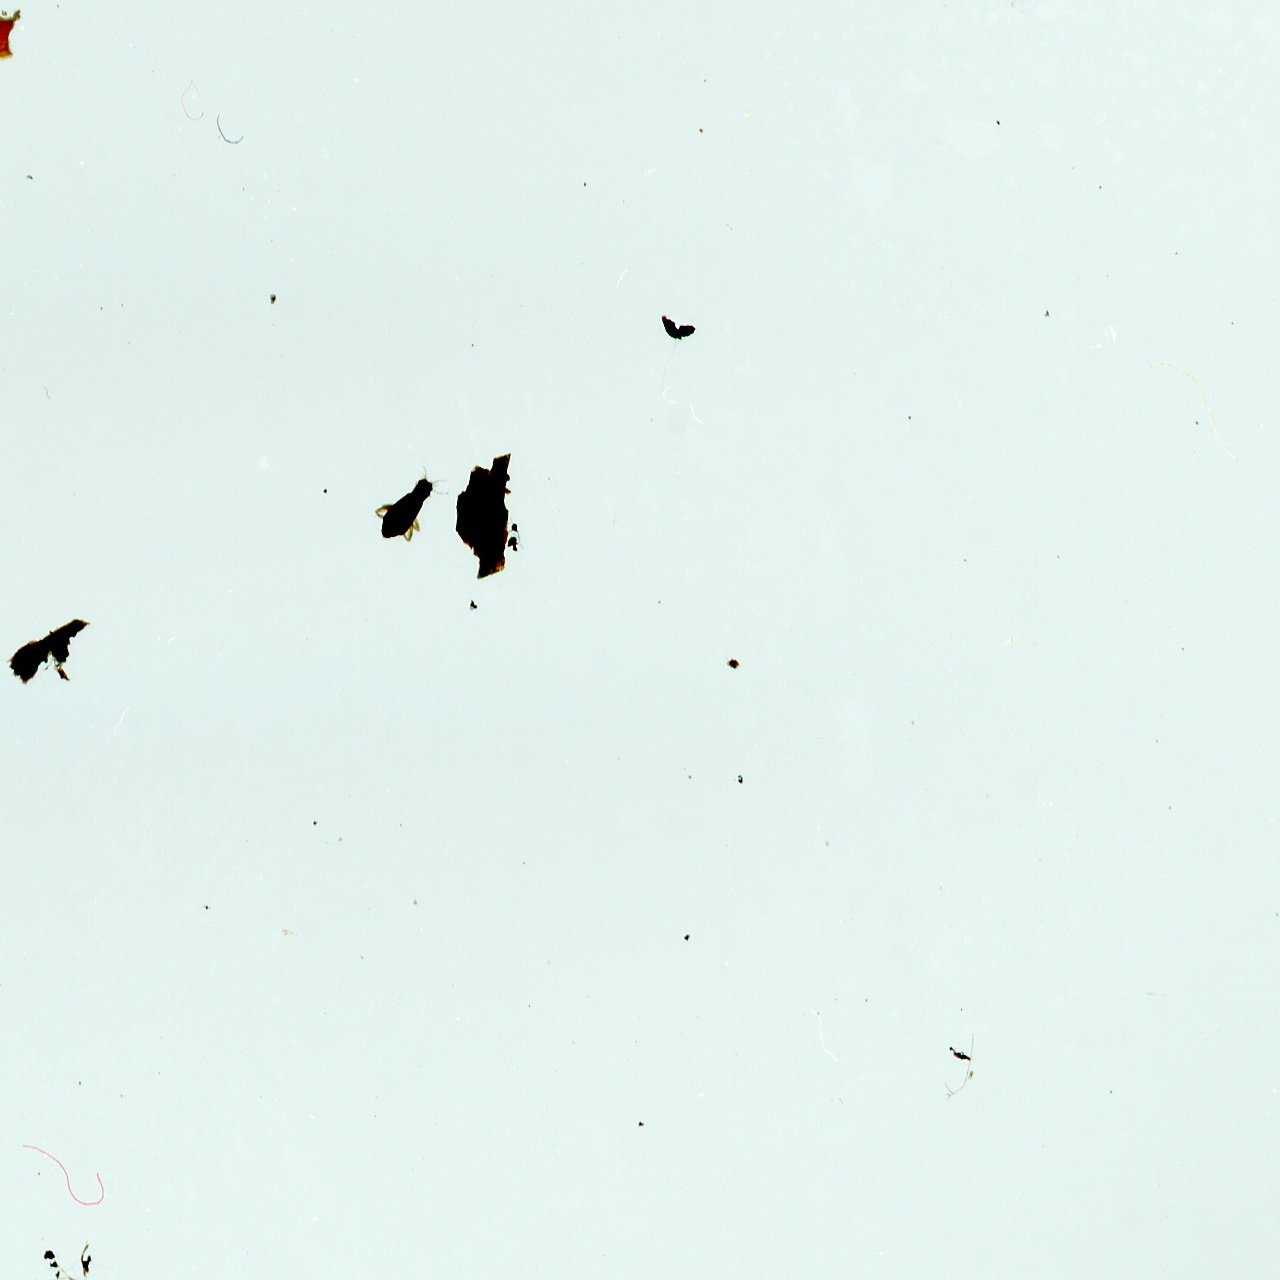arthropod: (372, 465, 452, 543)
